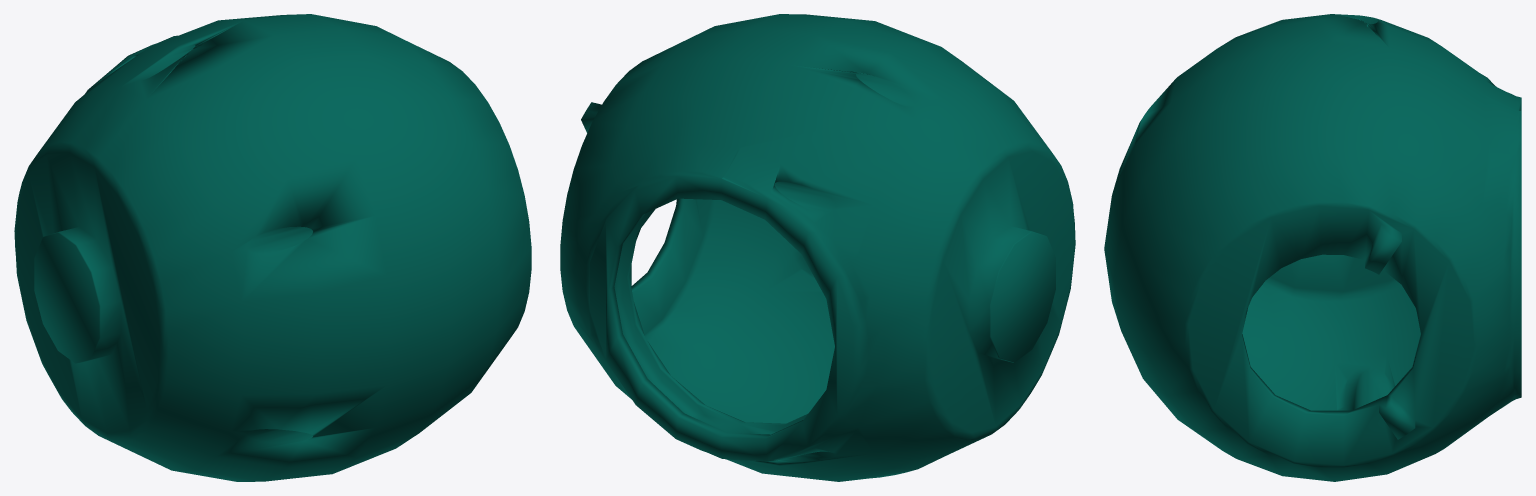
File: 2h09030_arml_t23.obj
3 renders of one model, left to right at view 1: azimuth 30°, elevation 25°; view 2: azimuth 150°, elevation 25°; view 3: azimuth 270°, elevation 25°, orthographic. The views are drawn at different scales.
Bounding box in the file's own units: 0.19 × 0.1888 × 0.1734.
